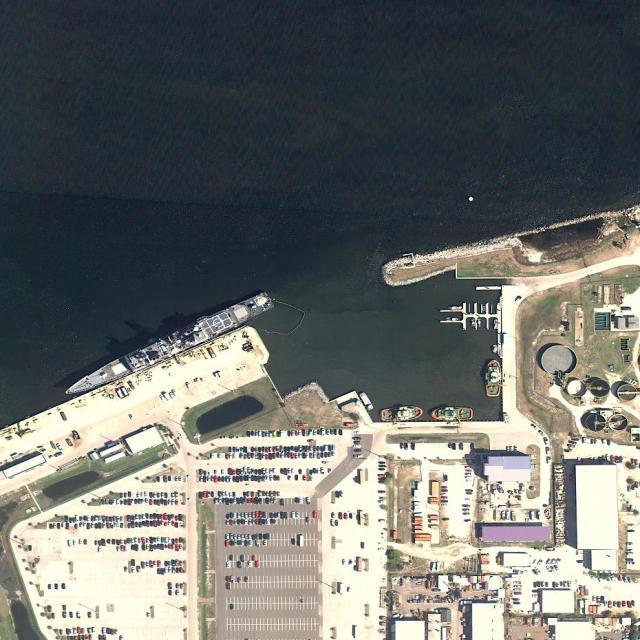Cruiser: (61, 290, 275, 401)
Hovercraft: (379, 404, 423, 422), (430, 404, 473, 420), (485, 358, 501, 397)
